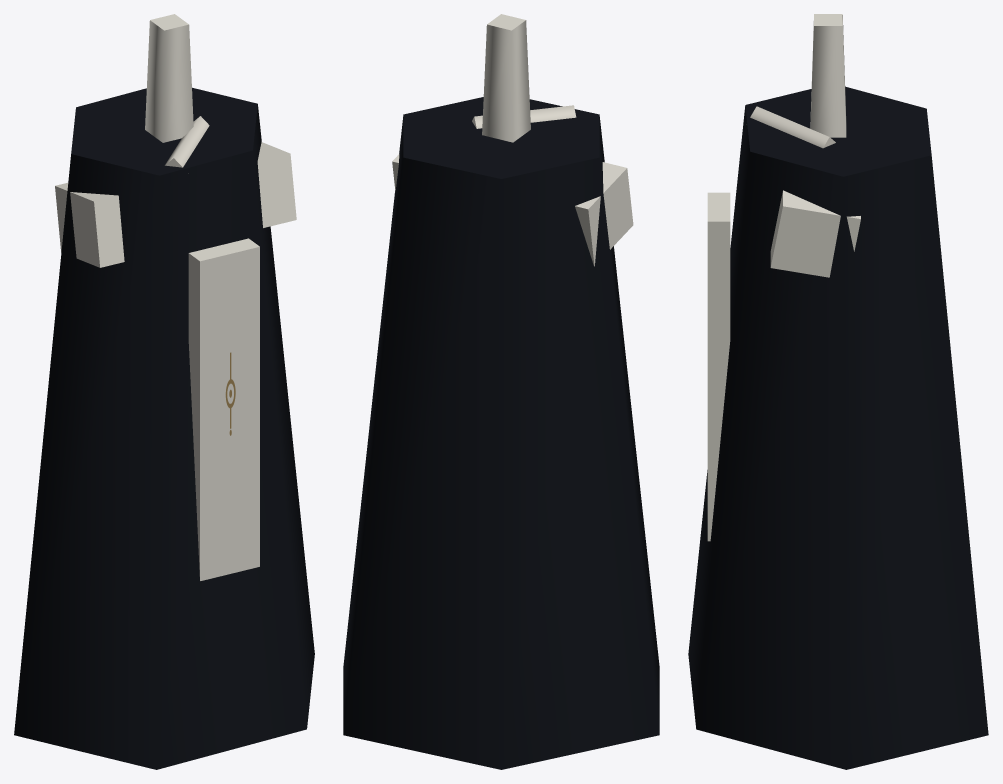
Rendered from character-lab-sentinel-v1.glb.
3 renders of one model, left to right at view 1: azimuth 30°, elevation 25°; view 2: azimuth 150°, elevation 25°; view 3: azimuth 270°, elevation 25°, orthographic.
Visible parts, largest first — view 1: Sentinel; view 2: Sentinel; view 3: Sentinel.
Boxes of the visible parts, x1,y1,x2,y2 form: Sentinel: [14, 14, 314, 769]; Sentinel: [343, 14, 659, 769]; Sentinel: [688, 14, 988, 769].
Bounding box in the file's own units: 2.83 × 5.91 × 2.39.
4 materials, 1 textured.
